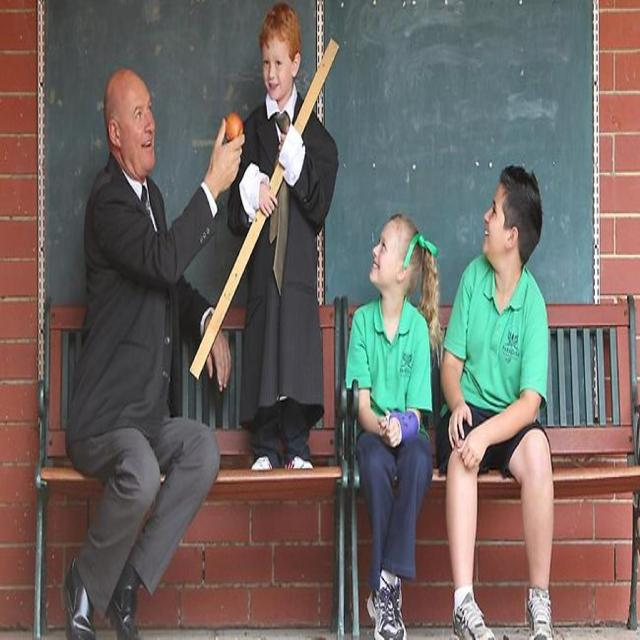Face: (112, 76, 167, 189), (362, 226, 416, 292), (256, 26, 296, 103), (481, 184, 515, 264)
